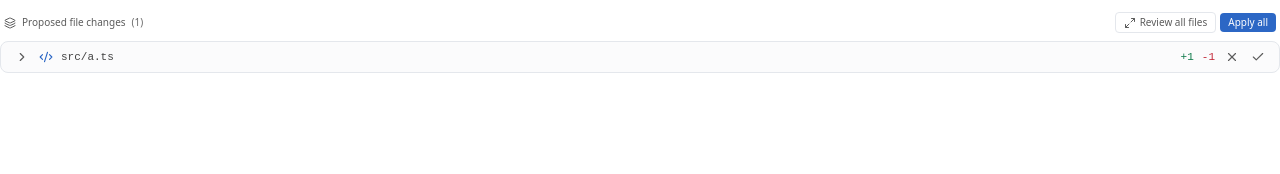
Test case: v2.6.0 C.4 - per-file diff accordion › 2. expanding one file reveals its diff without collapsing the list
The image size is (1280, 174).
Click the button named "Toggle diff for src/a.ts".
click(22, 57)  # box [13,48,31,66]
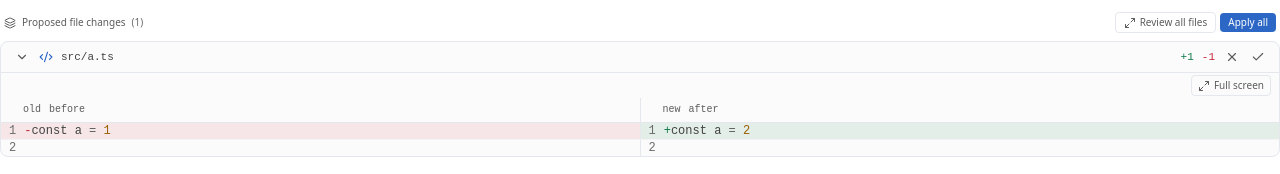
Expected: the text "src/a.ts" is shown, [61,49,114,65]
Result: the button named "Toggle diff for src/a.ts" is expanded at [13,48,31,66]
